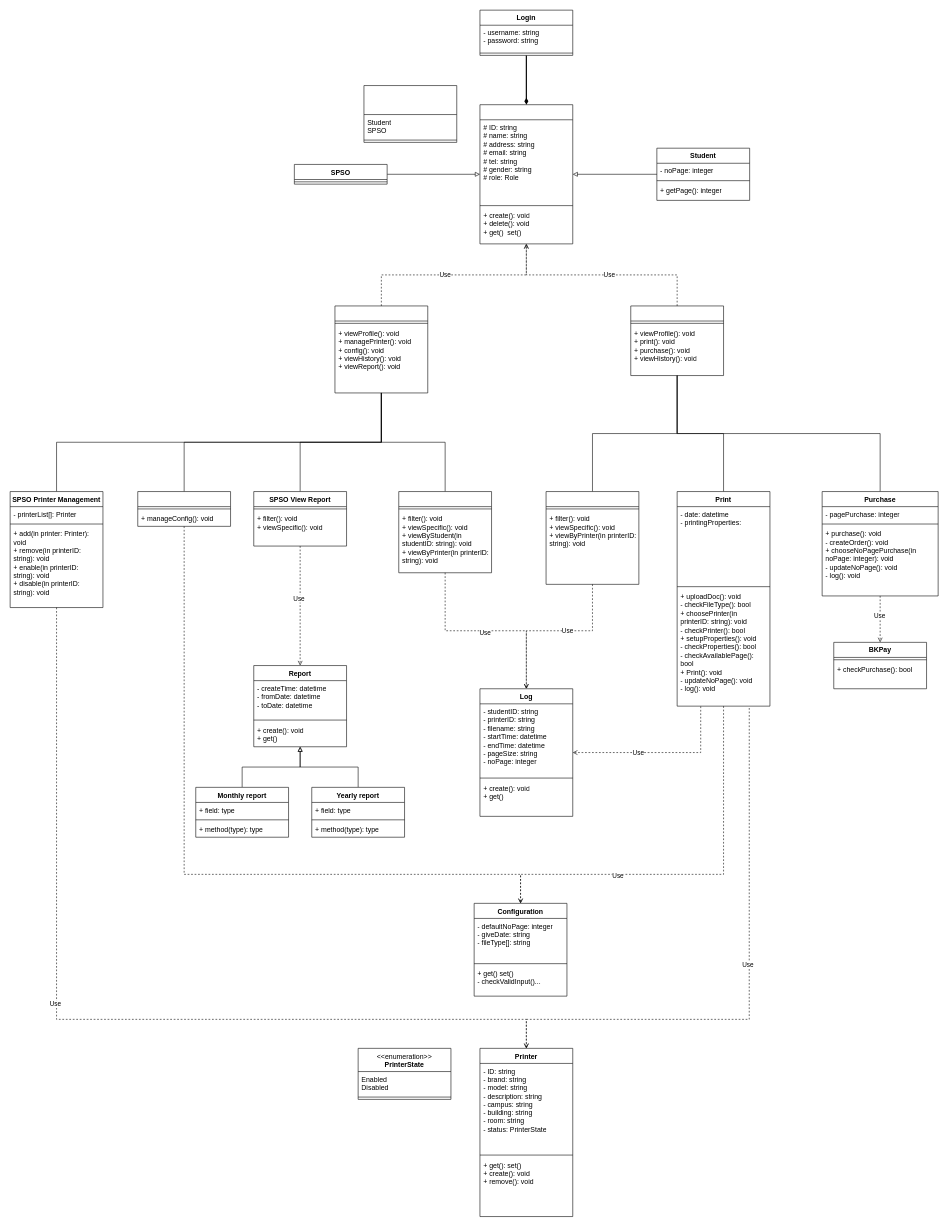
Image size: 948x1228. Some labels were removed from this diagram. Here are the shapes that lost their labels. From the top down, the box of each, then its label:
(363, 85, 457, 142): <<enumeration>> Role
(479, 104, 573, 244): User
(334, 305, 428, 393): SPSO control
(630, 305, 724, 376): Student Control
(137, 491, 231, 526): SPSO Config
(398, 491, 492, 573): SPSO View History
(545, 491, 639, 584): Student Printing History
